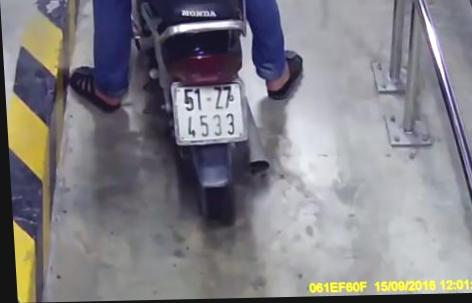License_Plate: (162, 77, 254, 150)
